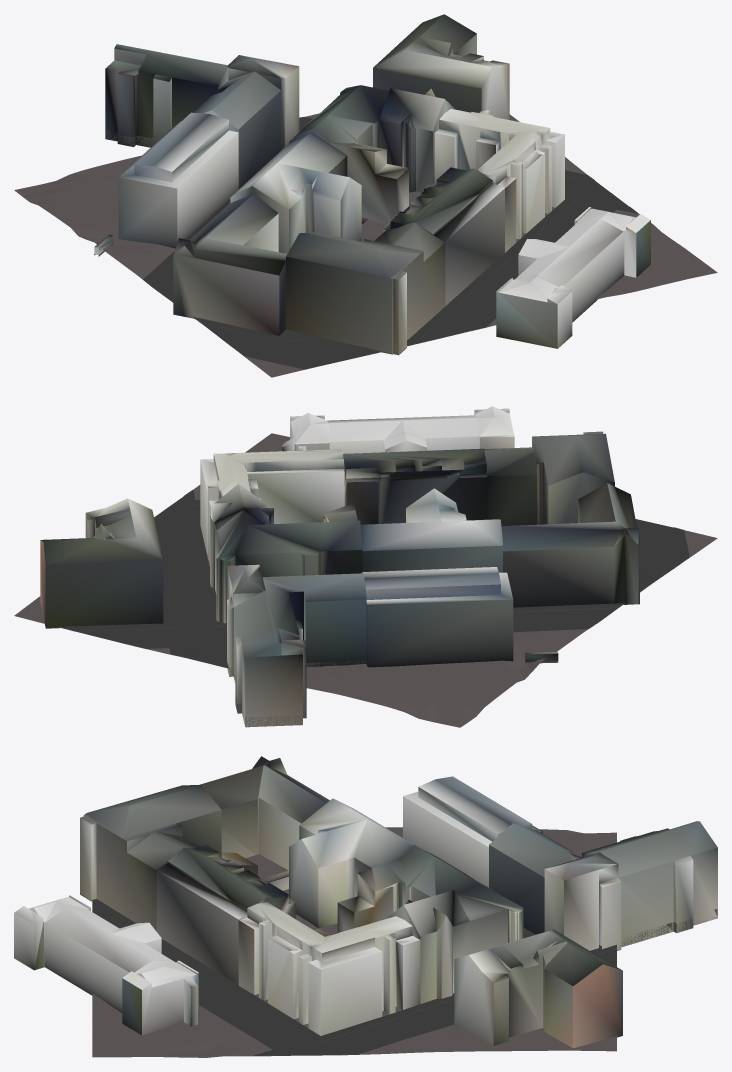
3 renders of one model, top to bottom at view 1: azimuth 30°, elevation 25°; view 2: azimuth 150°, elevation 25°; view 3: azimuth 270°, elevation 25°, orthographic.
Visible parts, largest first — view 1: c_m11_p04; view 2: c_m11_p04; view 3: c_m11_p04.
Part boxes in pixels (<box>): c_m11_p04: <box>14,14,717,377</box>; c_m11_p04: <box>14,406,717,727</box>; c_m11_p04: <box>14,756,717,1057</box>.
Size of the model in its own units: 131 by 26.97 by 172.
